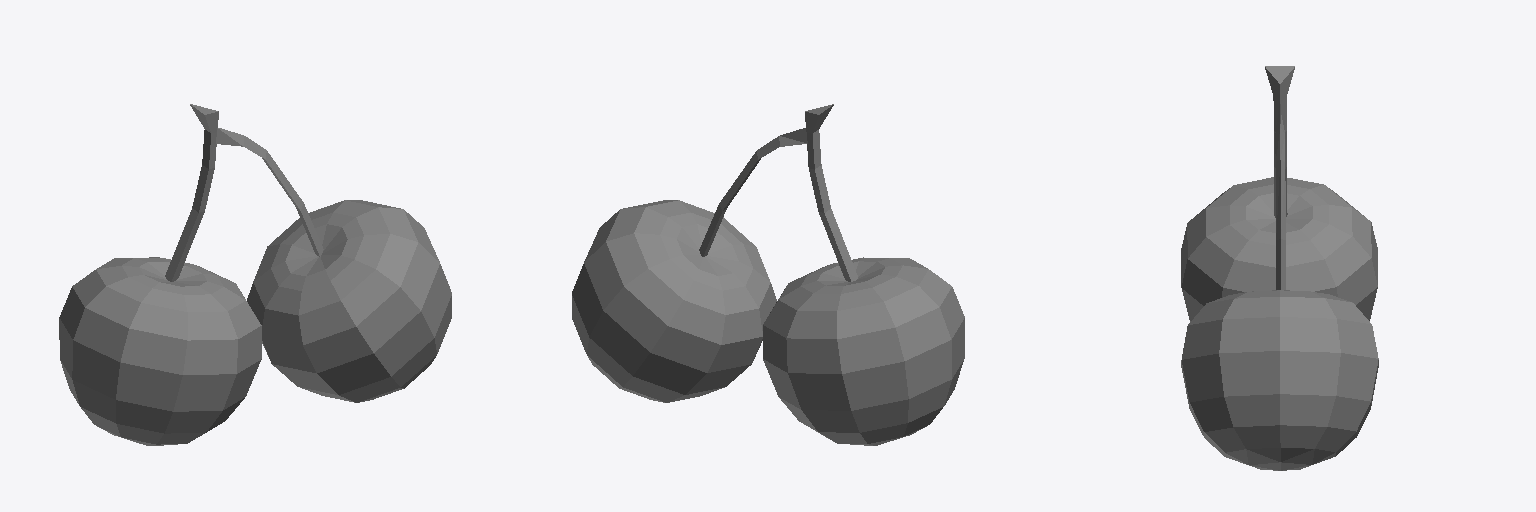
File: Cherries.obj
The picture shows the model from 3 angles: view 1: azimuth 30°, elevation 25°; view 2: azimuth 150°, elevation 25°; view 3: azimuth 270°, elevation 25°; orthographic projection.
Parts seen in each view (by area): view 1: Inst3D28_RefRep.218; view 2: Inst3D28_RefRep.218; view 3: Inst3D28_RefRep.218.
Boxes of the visible parts, box(x1,y1,x2,y2) form: Inst3D28_RefRep.218: box(59, 104, 451, 445); Inst3D28_RefRep.218: box(572, 104, 964, 445); Inst3D28_RefRep.218: box(1181, 66, 1378, 470).
Size of the model in its own units: 4.17 by 3.49 by 1.94.